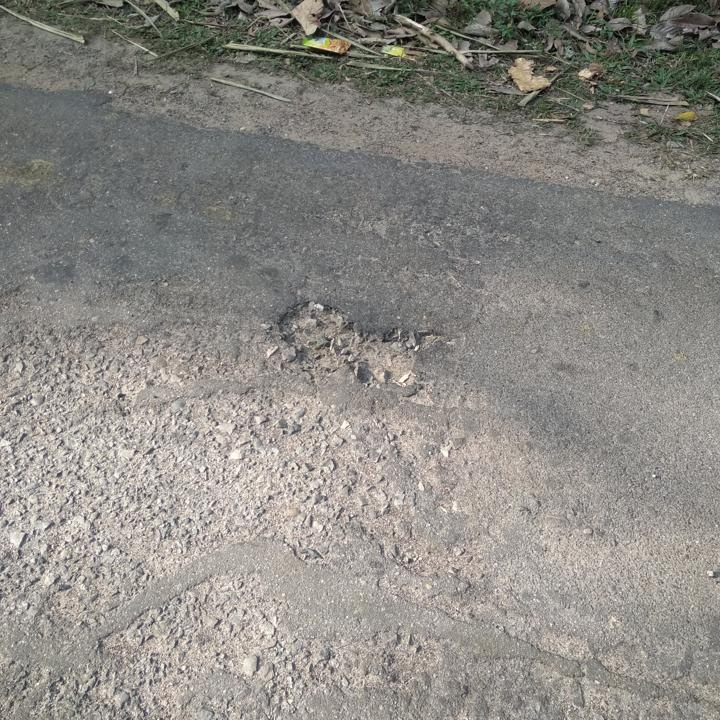pothole: (272, 294, 435, 389)
